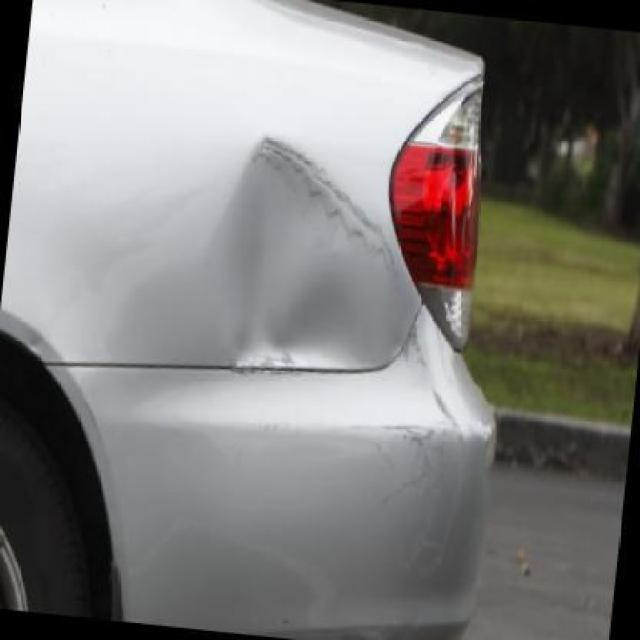dent: (202, 137, 422, 375)
